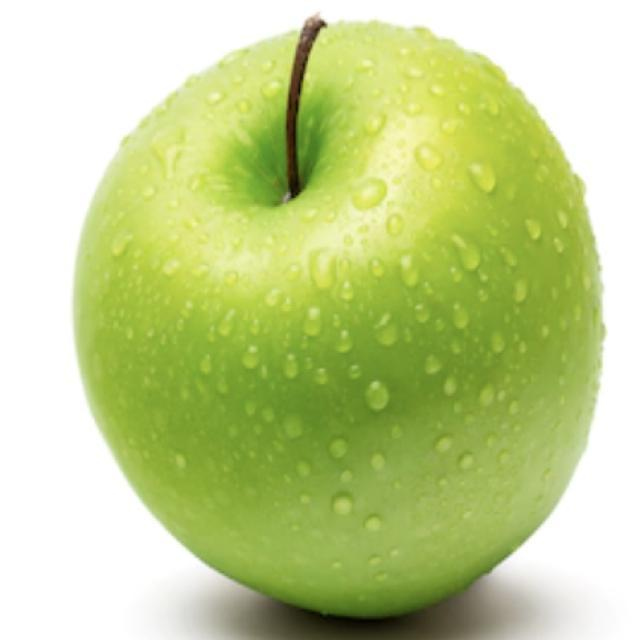Apple: (71, 12, 606, 620)
